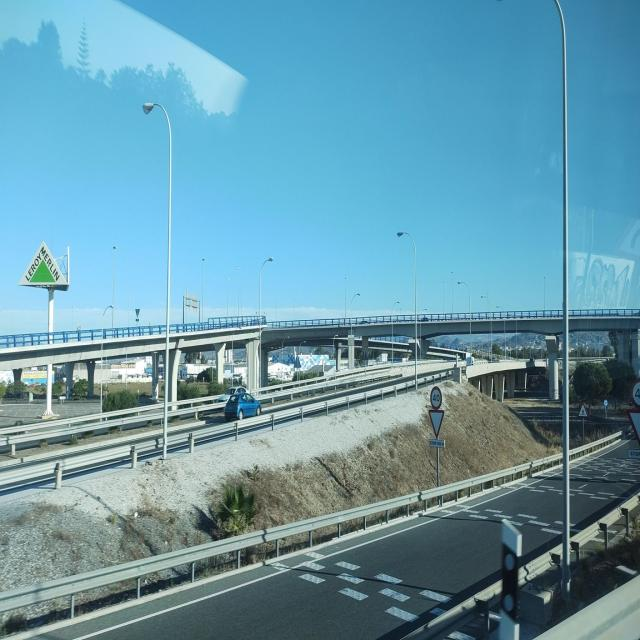car: (223, 389, 262, 420)
